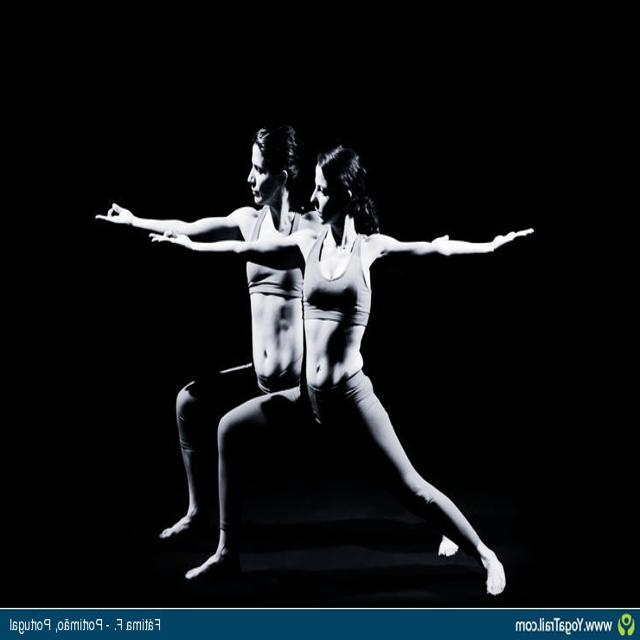Warrior_II: (86, 129, 546, 599)
